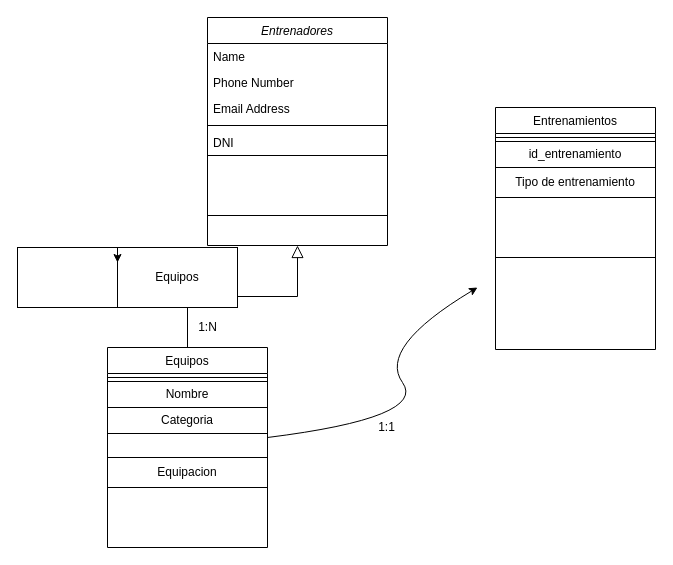
The diagram is 673 pixels wide and 565 high, and some of its shapes have lost their labels. The centre of each missing label's shape, as x and y in pixels:
"Contenido de entrenamiento" goes at (575,227).
"DNI_Entrenadores" goes at (67,277).
"NºJugadores" goes at (187,445).
"user y pass" goes at (297,185).
